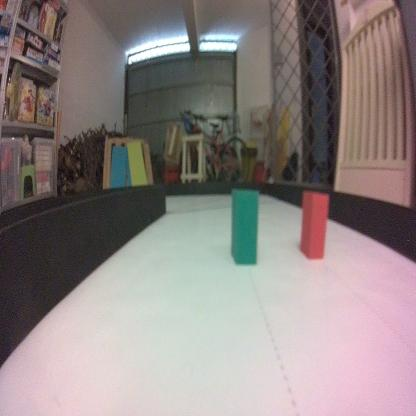green: (229, 185, 260, 268)
red: (299, 188, 329, 263)
